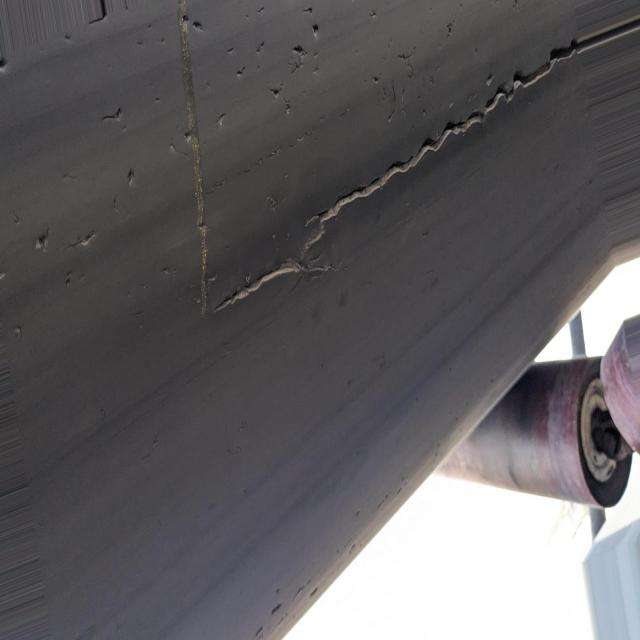Puncture: (257, 0, 328, 104), (21, 221, 64, 260), (73, 221, 103, 258), (122, 157, 145, 194), (93, 105, 120, 134), (189, 11, 208, 50)
Roller: (436, 356, 622, 510)
Tear: (169, 0, 640, 320)
